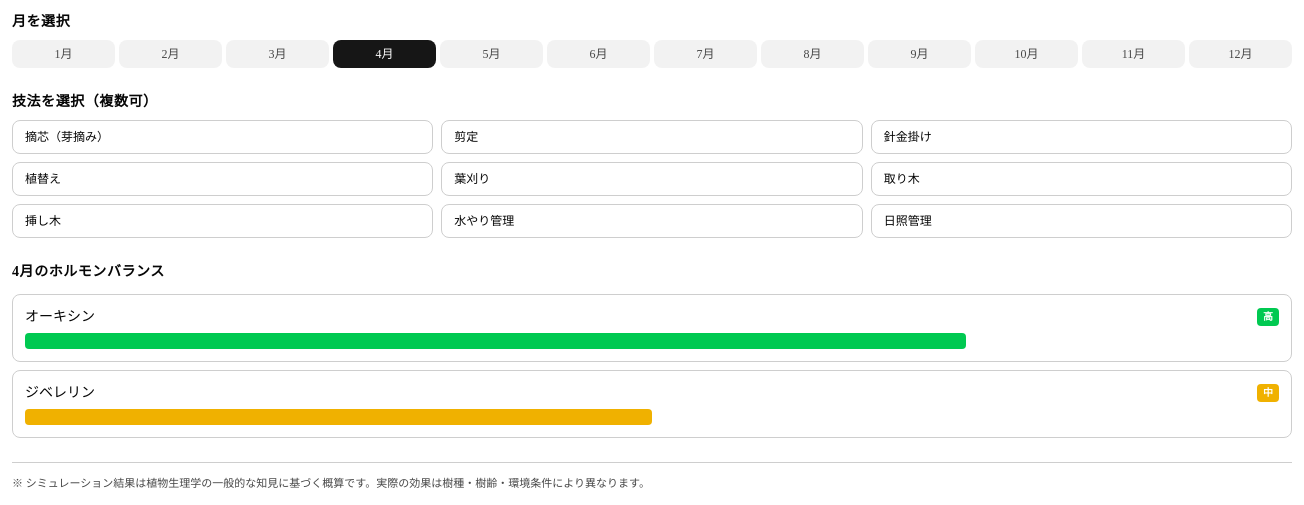
Test case: HormoneBalanceSimulator - 技法トグル › 技法選択中は「すべて解除」ボタンが現れる
Click the button "摘芯（芽摘み）" at point(67, 137), box [12,120,433,154]
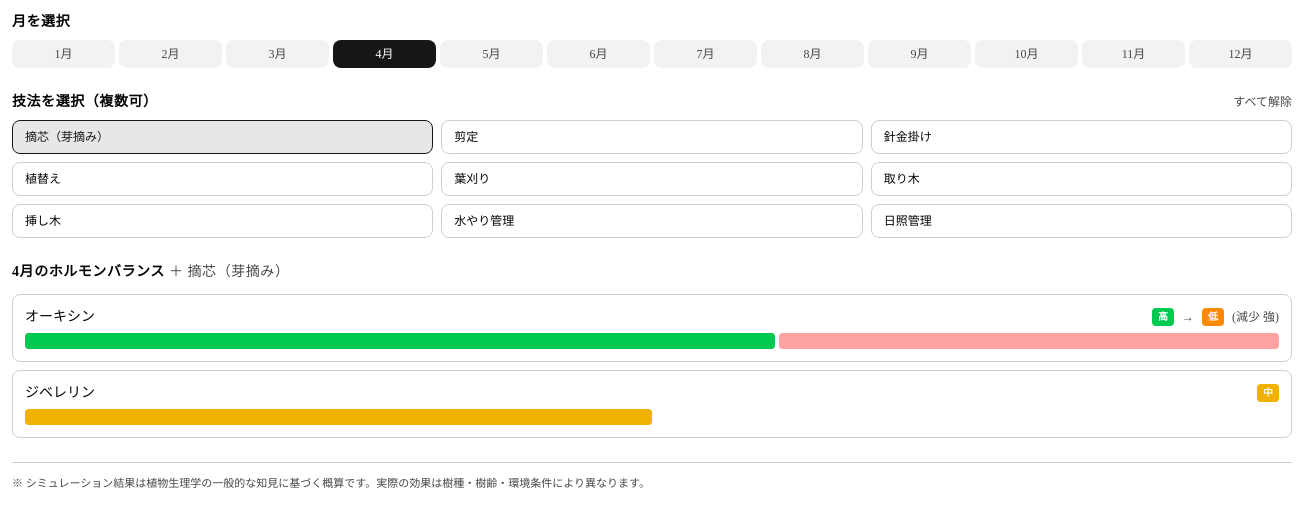
Expected: the button "すべて解除" is shown, [1233,94,1292,110]
